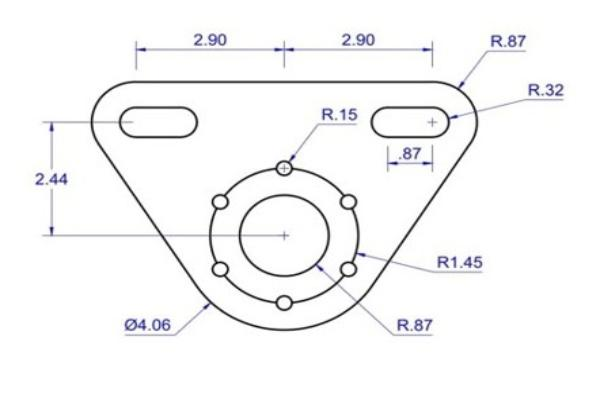dimensions: (385, 136, 440, 173), (480, 26, 538, 57), (521, 69, 572, 104), (310, 93, 365, 125), (115, 308, 178, 334), (191, 17, 236, 50), (435, 249, 492, 272), (391, 308, 439, 335), (26, 168, 76, 192), (335, 28, 381, 52)
